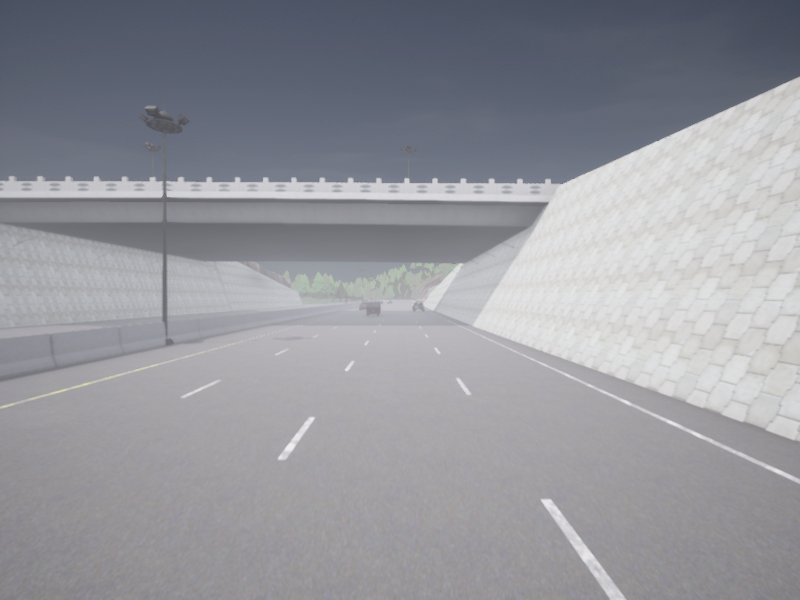vehicle: (367, 301, 380, 315), (413, 301, 423, 310), (360, 302, 367, 309), (379, 300, 383, 303), (388, 301, 392, 303)
